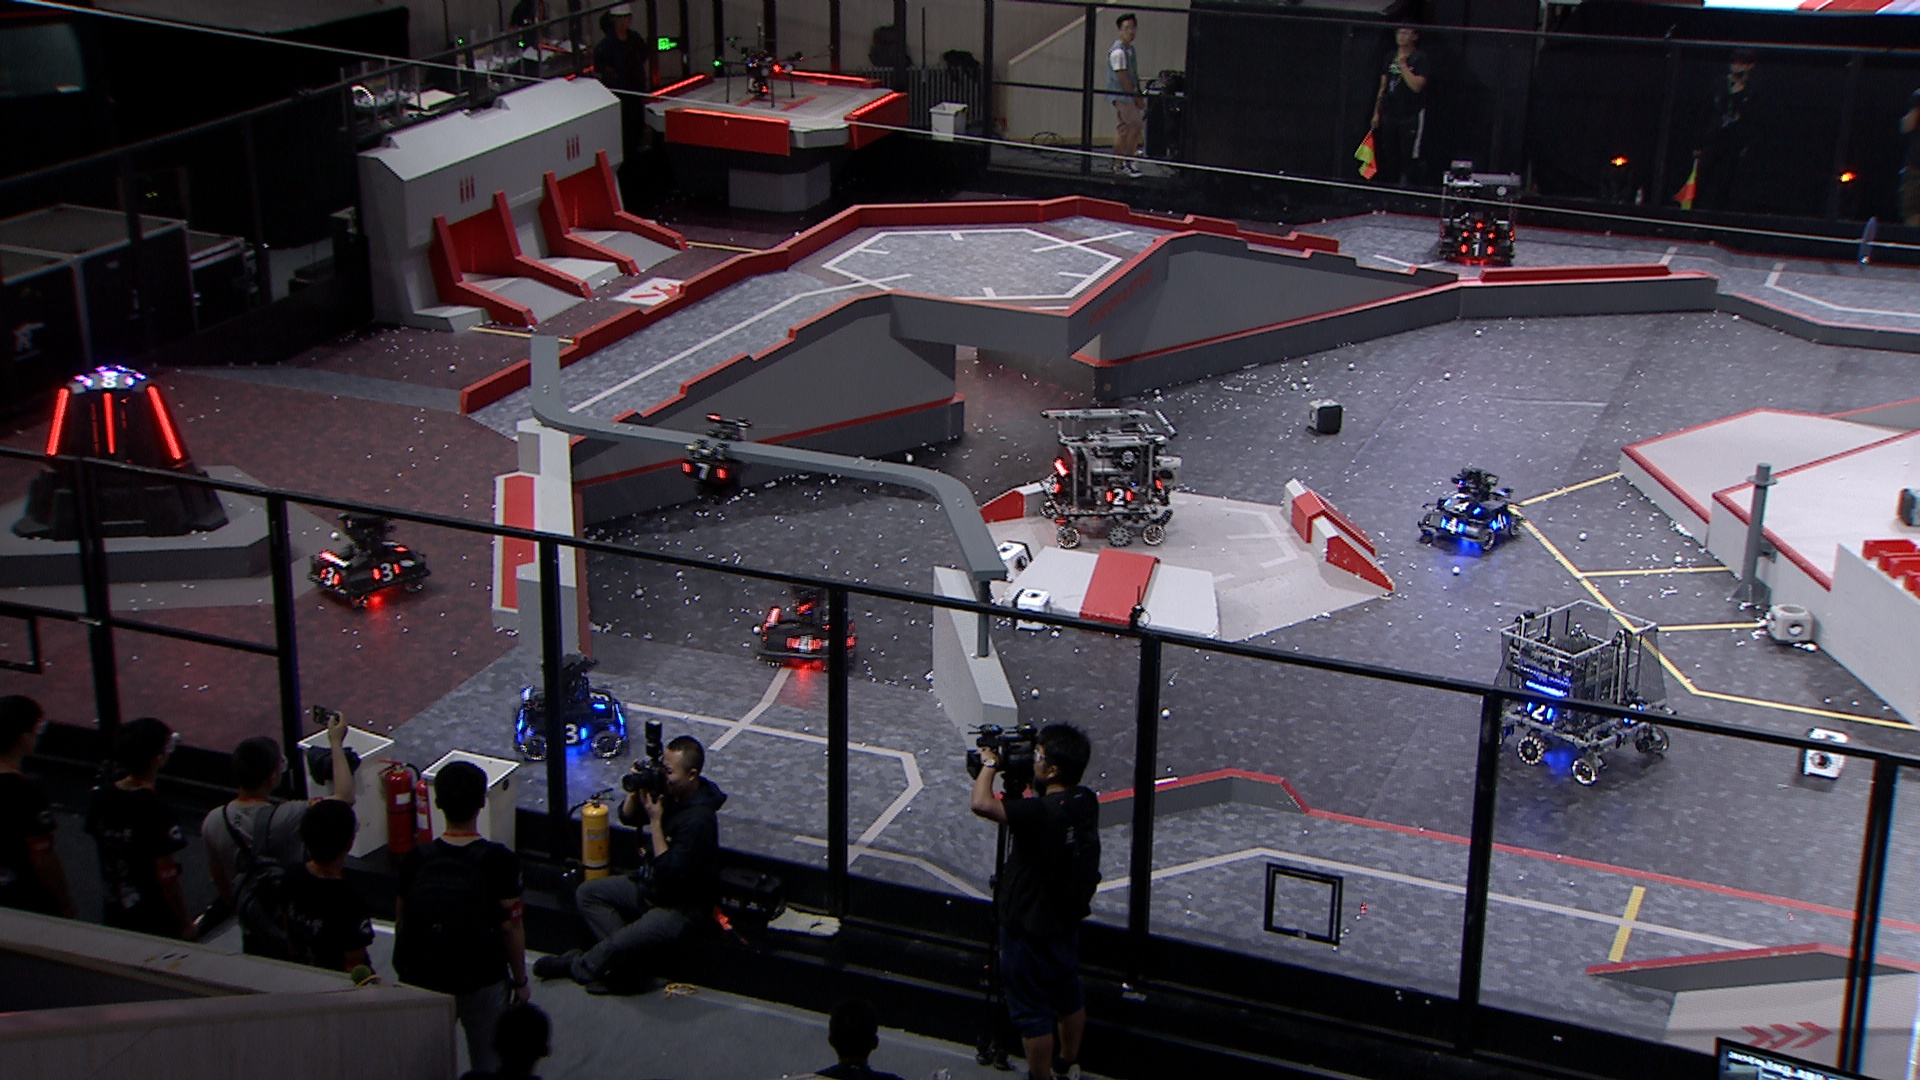armor: (142, 384, 185, 460), (44, 385, 71, 458), (679, 458, 731, 481), (100, 392, 117, 456), (1523, 699, 1556, 723), (560, 719, 588, 746), (371, 560, 404, 583), (1444, 498, 1482, 517), (1102, 485, 1135, 506), (789, 633, 823, 651), (589, 684, 611, 713), (1457, 240, 1495, 256), (378, 534, 406, 553), (318, 564, 342, 585), (1437, 517, 1466, 534), (1623, 702, 1643, 727), (1489, 513, 1509, 531), (1460, 229, 1495, 239), (1046, 475, 1062, 495)
base: (8, 365, 229, 541)
car: (1487, 597, 1677, 787), (1038, 405, 1179, 551), (301, 498, 433, 615), (510, 651, 636, 765), (752, 572, 861, 669), (1415, 462, 1523, 556), (1429, 158, 1523, 264)
ignore: (83, 373, 138, 392)
watcher: (676, 411, 756, 512)
